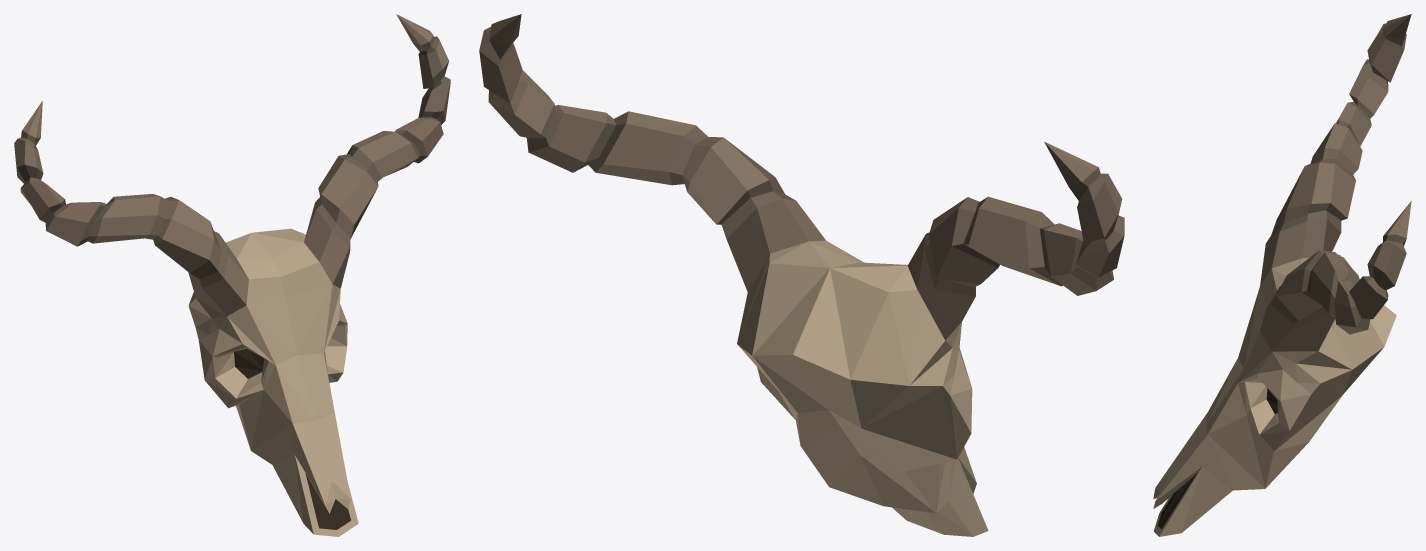
Rendered from bog_bone_skull.gltf.
3 views of the same model, side by side, from view 1: azimuth 30°, elevation 25°; view 2: azimuth 150°, elevation 25°; view 3: azimuth 270°, elevation 25° (orthographic). The views are drawn at different scales.
Visible parts, largest first — view 1: bog_bone_skull; view 2: bog_bone_skull; view 3: bog_bone_skull.
Part boxes in pixels (x1,y1,x2,y2): bog_bone_skull: (14,14,450,536); bog_bone_skull: (479,14,1124,536); bog_bone_skull: (1153,14,1411,536).
Bounding box in the file's own units: 4 × 3.49 × 1.93.
Materials: 1 (1 with a texture image).
